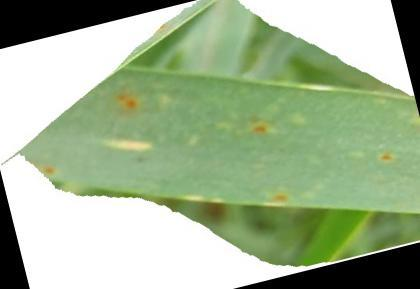Wheat: (240, 112, 290, 146), (108, 83, 151, 121), (365, 142, 407, 174)
